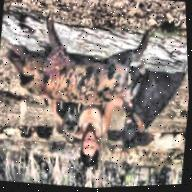boar: (0, 16, 172, 119)
